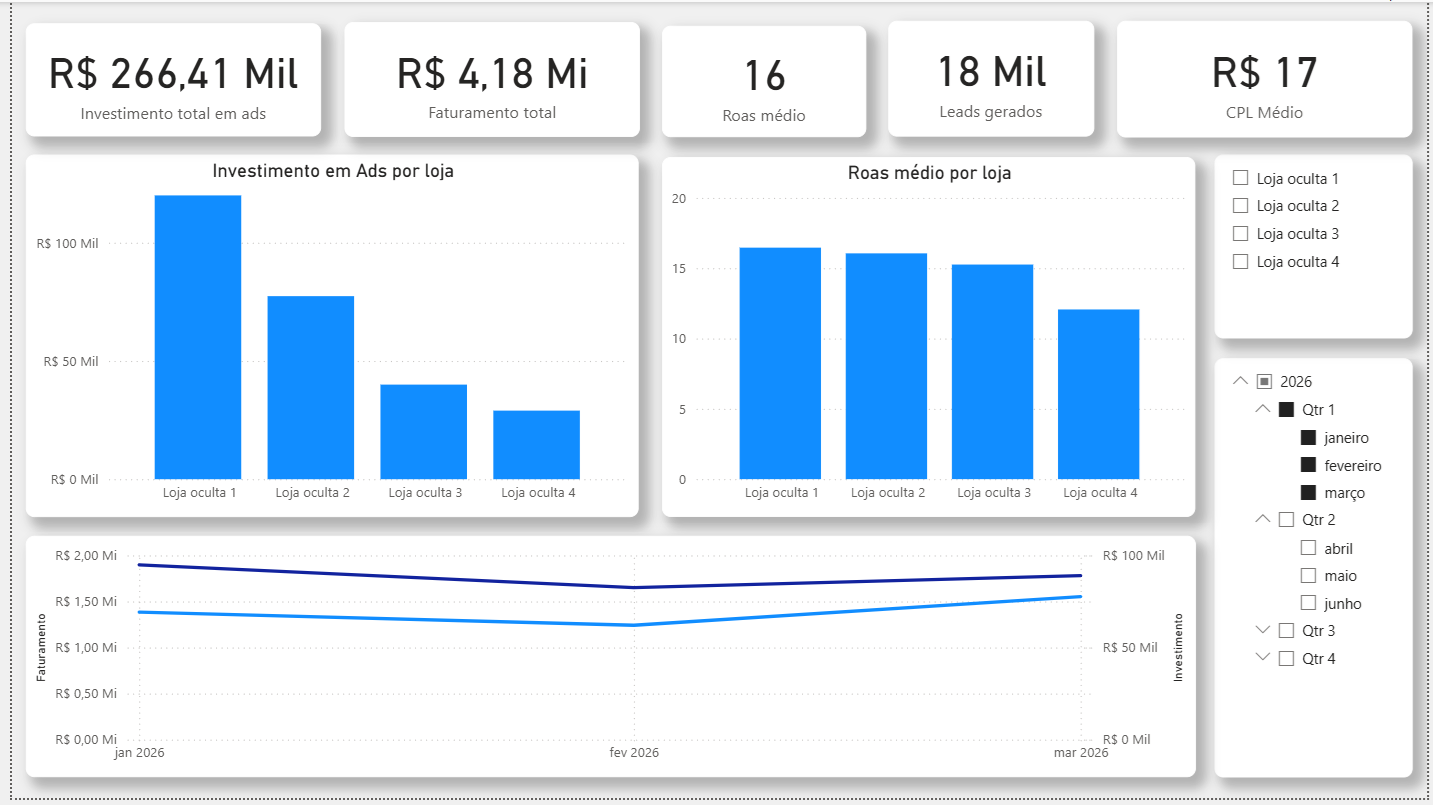

This screenshot's page, from the dashboard's own definition file:
{"tool":"powerbi","page":{"name":"Marketing","canvas":[1280,720],"ordinal":3},"visuals":[{"type":"slicer","fields":{"Values":["Calendario.Date.Variation.Hierarquia de datas.Ano","Calendario.Date.Variation.Hierarquia de datas.Trimestre","Calendario.Date.Variation.Hierarquia de datas.Mês"]},"box":[1087.2,322.1,179.1,379.1],"z":0},{"type":"slicer","fields":{"Values":["Visão Macro.Loja únificada"]},"box":[1087.2,138.4,179.1,166.3],"z":1000},{"type":"lineStackedColumnComboChart","title":"Investimento em Ads por loja","fields":{"Category":["Visão Macro.Loja únificada"],"Y":["Marketing.Investimento em ads"]},"box":[12.8,138.4,554.7,327.9],"z":2000},{"type":"card","fields":{"Values":["Marketing.Investimento em ads"]},"box":[12.8,19.8,267.4,102.3],"z":3000},{"type":"card","fields":{"Values":["Sum(Marketing.Faturamento no mês)"]},"box":[300.3,17.8,267.6,104.3],"z":4000},{"type":"card","fields":{"Values":["Marketing.Total Roas"]},"box":[587.9,20.9,184.9,101.2],"z":5000},{"type":"card","fields":{"Values":["Marketing.Total de Leads"]},"box":[792.9,17.4,186,104.7],"z":6000},{"type":"card","fields":{"Values":["Avg(Marketing.Cpl)"]},"box":[999,16.5,267.6,105.7],"z":7000},{"type":"lineStackedColumnComboChart","title":"Roas médio por loja","fields":{"Category":["Visão Macro.Loja únificada"],"Y":["Marketing.Média de Roas"]},"box":[588.4,140.7,482.6,325.6],"z":8000},{"type":"lineChart","fields":{"Y":["Sum(Marketing.Faturamento no mês)"],"Category":["Calendario.Date.Variation.Hierarquia de datas.Ano","Calendario.Date.Variation.Hierarquia de datas.Mês"],"Y2":["Sum(Marketing.Investimento)"]},"box":[12.8,482.6,1058.1,218.6],"z":9000}]}

Visuals, with their boxes in screenshot pixels (x1, y1, x2, y2), scaled from the page's 1280x720 canvas onto the 1433x805 screenshot:
slicer - Calendario.Date.Variation.Hierarquia de datas.Ano x Calendario.Date.Variation.Hierarquia de datas.Trimestre: bbox(1217, 360, 1418, 784)
slicer - Visão Macro.Loja únificada: bbox(1217, 155, 1418, 341)
"Investimento em Ads por loja" lineStackedColumnComboChart: bbox(14, 155, 635, 521)
card - Marketing.Investimento em ads: bbox(14, 22, 314, 137)
card - Sum(Marketing.Faturamento no mês): bbox(336, 20, 636, 137)
card - Marketing.Total Roas: bbox(658, 23, 865, 137)
card - Marketing.Total de Leads: bbox(888, 19, 1096, 137)
card - Avg(Marketing.Cpl): bbox(1118, 18, 1418, 137)
"Roas médio por loja" lineStackedColumnComboChart: bbox(659, 157, 1199, 521)
lineChart - Sum(Marketing.Faturamento no mês) x Calendario.Date.Variation.Hierarquia de datas.Ano: bbox(14, 540, 1199, 784)
